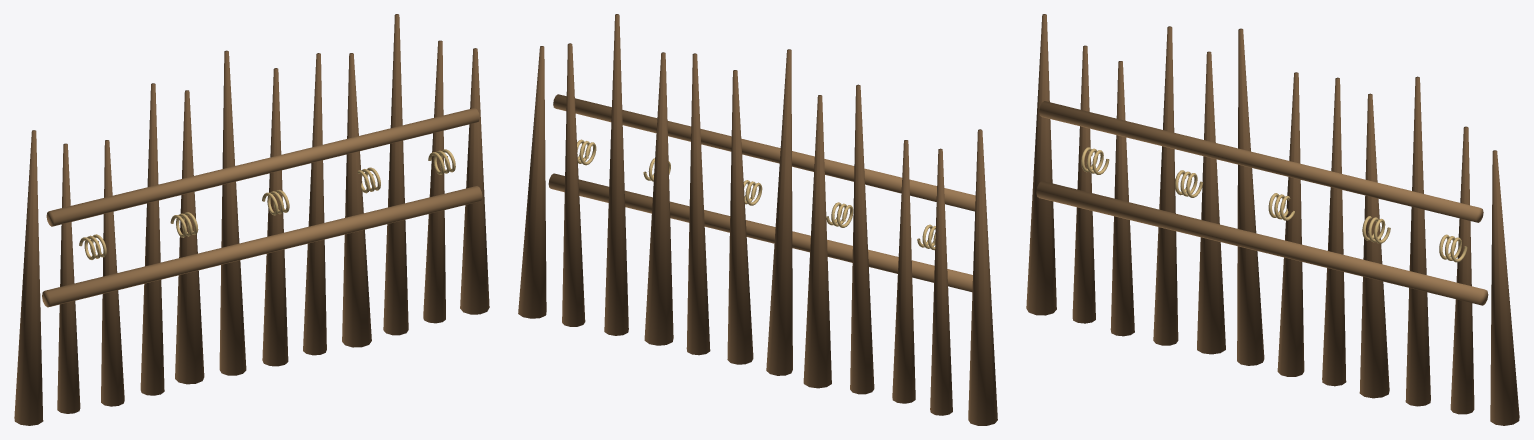
File: wall.glb
3 views of the same model, side by side, from view 1: azimuth 30°, elevation 25°; view 2: azimuth 150°, elevation 25°; view 3: azimuth 330°, elevation 25° (orthographic). The views are drawn at different scales.
Visible parts, largest first — view 1: wall_rail_low, wall_rail_high, palisade_stake_0, palisade_stake_5, palisade_stake_8, palisade_stake_9, palisade_stake_4, palisade_stake_11, palisade_stake_3, palisade_stake_7, palisade_stake_6, palisade_stake_2 (+5 smaller); view 2: wall_rail_high, palisade_stake_5, palisade_stake_0, palisade_stake_8, palisade_stake_4, palisade_stake_9, wall_rail_low, palisade_stake_6, palisade_stake_3, palisade_stake_11, palisade_stake_7, palisade_stake_10 (+3 smaller); view 3: wall_rail_low, wall_rail_high, palisade_stake_0, palisade_stake_5, palisade_stake_11, palisade_stake_4, palisade_stake_8, palisade_stake_9, palisade_stake_3, palisade_stake_6, palisade_stake_7, palisade_stake_10 (+6 smaller).
Part boxes in pixels (x1,y1,x2,y2): wall_rail_low: (42, 186, 482, 307); wall_rail_high: (46, 108, 479, 226); palisade_stake_0: (14, 130, 43, 425); palisade_stake_5: (219, 50, 246, 375); palisade_stake_8: (342, 53, 371, 347); palisade_stake_9: (383, 14, 408, 335); palisade_stake_4: (175, 90, 204, 384); palisade_stake_11: (460, 48, 489, 314); palisade_stake_3: (140, 83, 164, 395); palisade_stake_7: (303, 53, 326, 355); palisade_stake_6: (262, 68, 288, 366); palisade_stake_2: (101, 140, 124, 406); wall_rail_high: (553, 94, 975, 211); palisade_stake_5: (766, 49, 792, 375); palisade_stake_0: (968, 129, 997, 425); palisade_stake_8: (644, 52, 673, 345); palisade_stake_4: (803, 95, 831, 388); palisade_stake_9: (604, 14, 628, 335); wall_rail_low: (548, 173, 972, 291); palisade_stake_6: (727, 70, 753, 364); palisade_stake_3: (850, 84, 874, 394); palisade_stake_11: (518, 46, 546, 318); palisade_stake_7: (686, 53, 710, 355); palisade_stake_10: (562, 43, 585, 326); wall_rail_low: (1036, 181, 1488, 305); wall_rail_high: (1039, 101, 1483, 222); palisade_stake_0: (1026, 14, 1056, 315); palisade_stake_5: (1237, 28, 1264, 365); palisade_stake_11: (1490, 150, 1519, 425); palisade_stake_4: (1197, 51, 1225, 354); palisade_stake_8: (1359, 93, 1389, 398); palisade_stake_9: (1405, 76, 1430, 406); palisade_stake_3: (1153, 26, 1178, 345); palisade_stake_6: (1277, 72, 1304, 376); palisade_stake_7: (1322, 77, 1346, 386); palisade_stake_10: (1450, 126, 1474, 414).
Size of the model in its own units: 2.85 by 1.85 by 0.2529.
